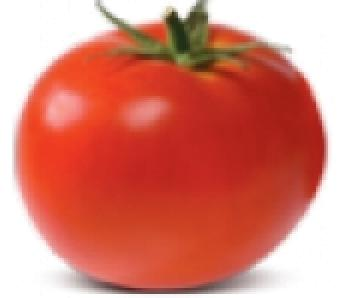tomato: (15, 24, 325, 287)
